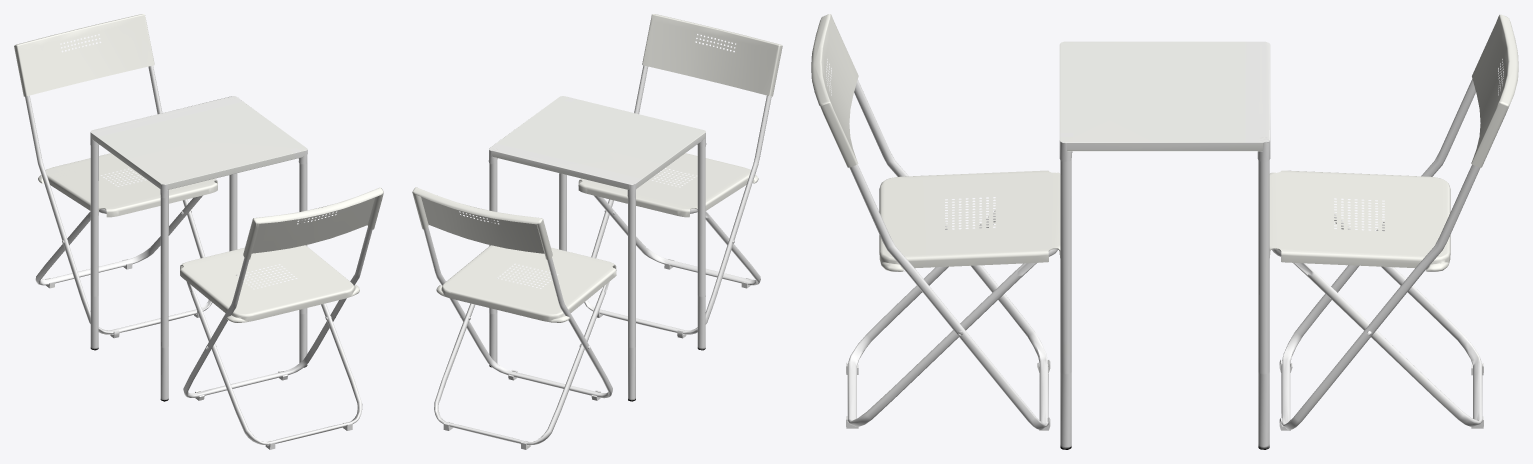
The model's file is fejan_sto_2_skadane_krzesa_na_zewatrz_59434949.glb.
The picture shows the model from 3 angles, left to right: view 1: azimuth 30°, elevation 25°; view 2: azimuth 150°, elevation 25°; view 3: azimuth 270°, elevation 25°; orthographic projection. The views are drawn at different scales.
Visible parts, largest first — view 1: fejan_sto_2_skadane_krzesa_na_zewatrz_59434949; view 2: fejan_sto_2_skadane_krzesa_na_zewatrz_59434949; view 3: fejan_sto_2_skadane_krzesa_na_zewatrz_59434949.
Part boxes in pixels (x1,y1,x2,y2): fejan_sto_2_skadane_krzesa_na_zewatrz_59434949: (14,14,383,449); fejan_sto_2_skadane_krzesa_na_zewatrz_59434949: (412,14,782,449); fejan_sto_2_skadane_krzesa_na_zewatrz_59434949: (811,14,1518,449).
Bounding box in the file's own units: 0.5 × 0.789 × 1.48.
2 materials, 2 textured.
